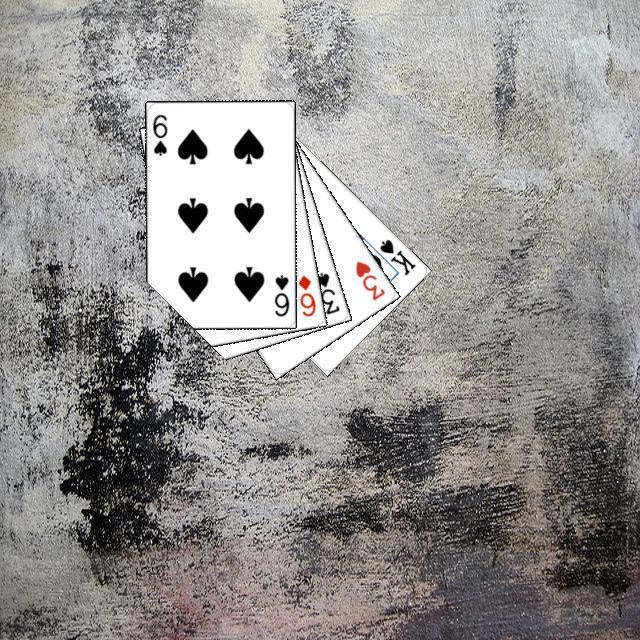3h: (350, 256, 387, 302)
3s: (311, 267, 341, 316)
6d: (293, 270, 317, 318)
6s: (269, 270, 291, 318), (148, 109, 169, 157)
Ks: (374, 234, 417, 278)
